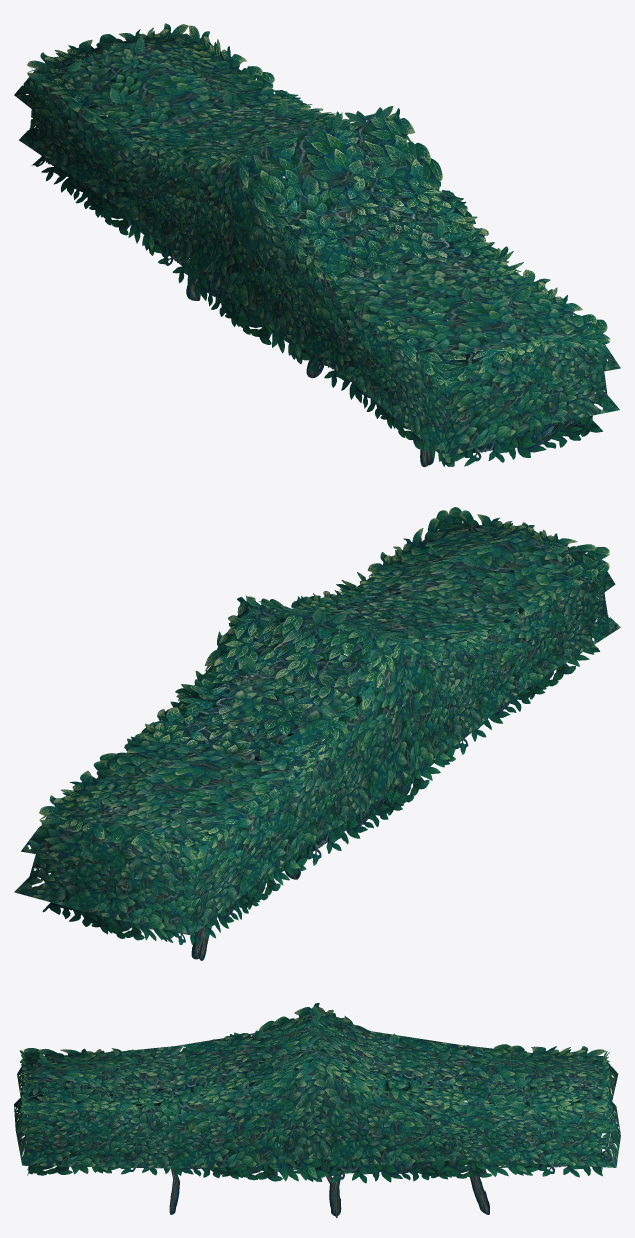
3 views of the same model, one above another, from view 1: azimuth 30°, elevation 25°; view 2: azimuth 150°, elevation 25°; view 3: azimuth 270°, elevation 25° (orthographic). The views are drawn at different scales.
Bounding box in the file's own units: 4.11 × 5.63 × 16.11.
1 material, 1 textured.
